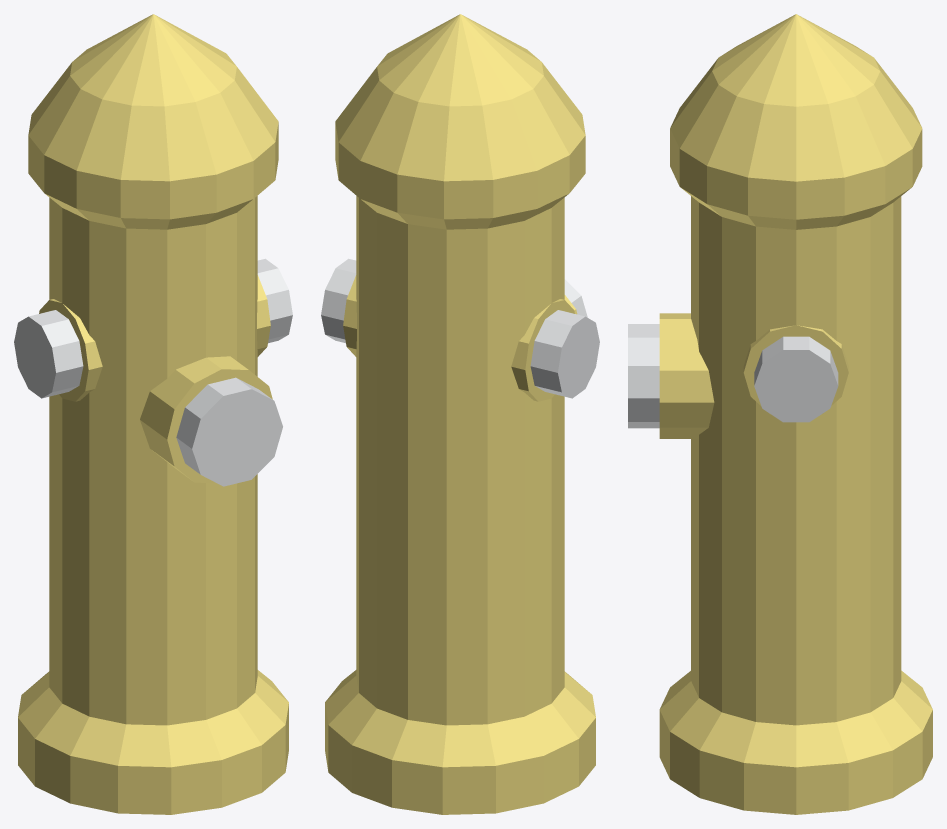
The model's file is hydrant.glb.
3 renders of one model, left to right at view 1: azimuth 30°, elevation 25°; view 2: azimuth 150°, elevation 25°; view 3: azimuth 270°, elevation 25°, orthographic.
Parts seen in each view (by area): view 1: hydrant_paint_y, hydrant_chrome; view 2: hydrant_paint_y, hydrant_chrome; view 3: hydrant_paint_y, hydrant_chrome.
Boxes of the visible parts, x1=… form: hydrant_paint_y: x1=18, y1=14, x2=288, y2=814; hydrant_chrome: x1=14, y1=258, x2=292, y2=486; hydrant_paint_y: x1=325, y1=14, x2=595, y2=814; hydrant_chrome: x1=321, y1=258, x2=599, y2=398; hydrant_paint_y: x1=659, y1=14, x2=932, y2=814; hydrant_chrome: x1=628, y1=324, x2=838, y2=428.
Size of the model in its own units: 0.26 by 0.78 by 0.29.
